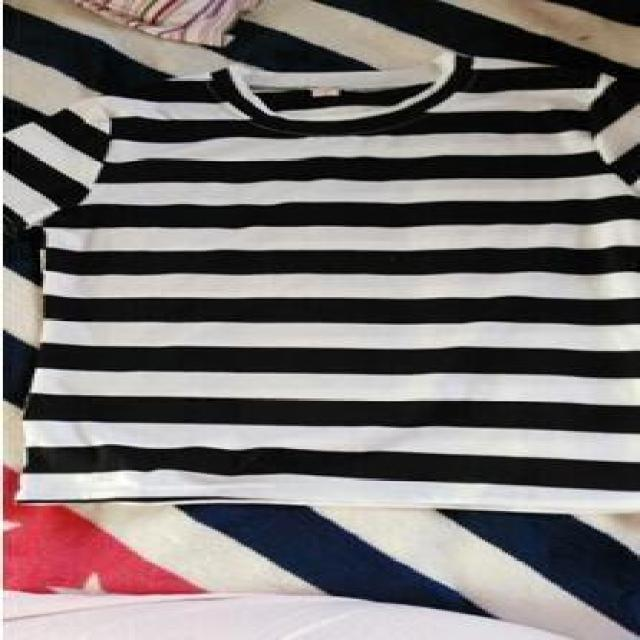short-sleeve-top: (36, 60, 640, 517)
